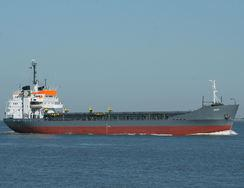Cargoship: (3, 59, 244, 137)
